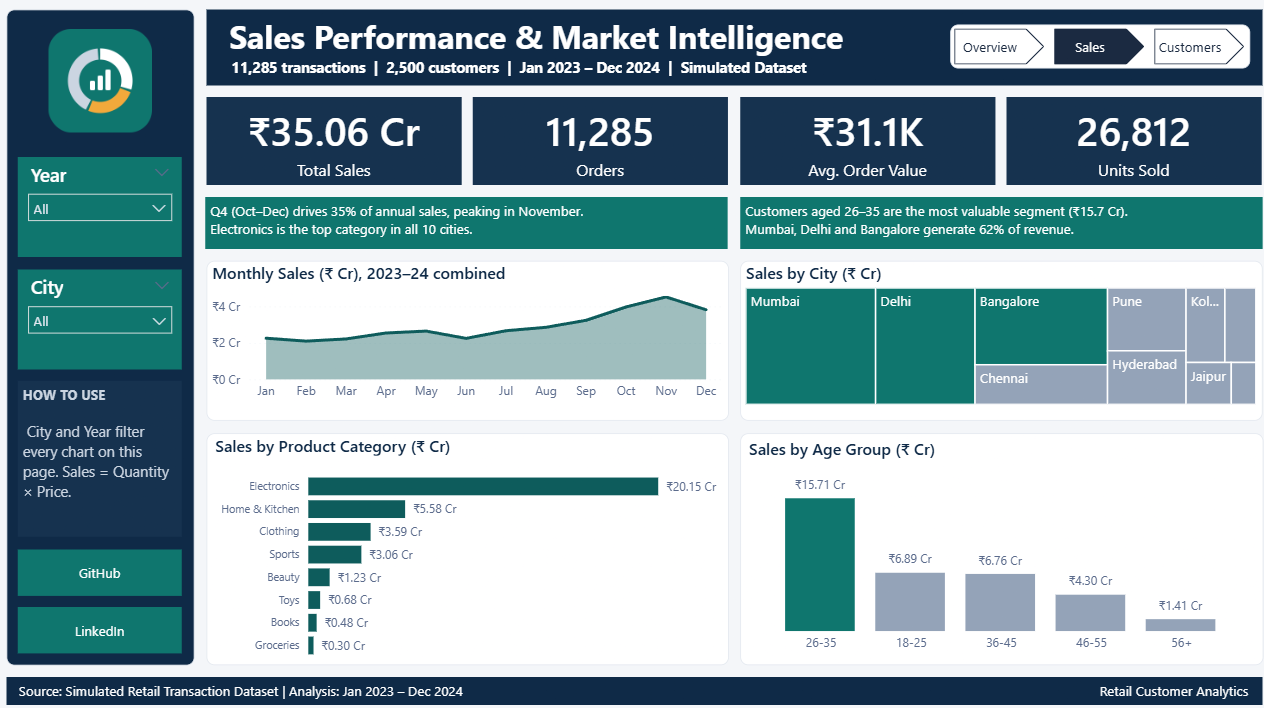

What the dashboard file says about the page in this screenshot:
{"tool":"powerbi","page":{"name":"Sales","canvas":[1280,720],"ordinal":1},"visuals":[{"type":"card","fields":{"Values":["High_Value_Customers.Sales (₹ Cr)"]},"box":[212,100,255,88],"z":0},{"type":"card","fields":{"Values":["High_Value_Customers.Orders"]},"box":[479,100,255,88],"z":1000},{"type":"card","fields":{"Values":["High_Value_Customers.Avg Order Value (₹K)"]},"box":[746,100,255,88],"z":2000},{"type":"card","fields":{"Values":["High_Value_Customers.Units Sold"]},"box":[1013,100,255,88],"z":3000},{"type":"textbox","box":[212,12,1056,76],"z":4000},{"type":"textbox","box":[12,12,188,656],"z":5000},{"type":"textbox","box":[12,680,1256,28],"z":6000},{"type":"pageNavigator","box":[956,28,300,44],"z":7000},{"type":"image","box":[46,24,120,120],"z":8000},{"type":"slicer","fields":{"Values":["Transactions.TransactionDate.Variation.Date Hierarchy.Year"]},"box":[24,160,164,100],"z":9000},{"type":"slicer","fields":{"Values":["Transactions.City"]},"box":[24,272,164.2,100],"z":10000},{"type":"textbox","box":[24,384,164,156],"z":11000},{"type":"actionButton","box":[24,552,164,46],"z":12000},{"type":"actionButton","box":[24,610,164.2,46],"z":13000},{"type":"areaChart","title":"Monthly Sales (₹ Cr), 2023–24 combined","fields":{"Category":["Transactions.Month Short"],"Y":["High_Value_Customers.Sales (₹ Cr)"]},"box":[212,264,522,160],"z":14000},{"type":"treemap","title":"Sales by City (₹ Cr)","fields":{"Group":["Transactions.City"],"Values":["High_Value_Customers.Sales (₹ Cr)"]},"box":[746,264,522,160],"z":15000},{"type":"clusteredBarChart","title":"Sales by Product Category (₹ Cr)","fields":{"Category":["Transactions.ProductCategory"],"Y":["High_Value_Customers.Sales (₹ Cr)"]},"box":[212.9,436,522,232],"z":16000},{"type":"clusteredColumnChart","title":"Sales by Age Group (₹ Cr)","fields":{"Category":["Transactions.AgeGroup"],"Y":["High_Value_Customers.Sales (₹ Cr)"]},"box":[746,436,522.9,232],"z":17000},{"type":"textbox","box":[211.4,200,522,52],"z":18000},{"type":"textbox","box":[746,200,522,52],"z":19000}]}

Visuals, with their boxes in screenshot pixels (x1, y1, x2, y2), scaled from the page's 1280x720 canvas onto the 1264x708 screenshot:
card - High_Value_Customers.Sales (₹ Cr): 209/98/461/185
card - High_Value_Customers.Orders: 473/98/725/185
card - High_Value_Customers.Avg Order Value (₹K): 737/98/988/185
card - High_Value_Customers.Units Sold: 1000/98/1252/185
textbox: 209/12/1252/87
textbox: 12/12/198/657
textbox: 12/669/1252/696
pageNavigator: 944/28/1240/71
image: 45/24/164/142
slicer - Transactions.TransactionDate.Variation.Date Hierarchy.Year: 24/157/186/256
slicer - Transactions.City: 24/267/186/366
textbox: 24/378/186/531
actionButton: 24/543/186/588
actionButton: 24/600/186/645
"Monthly Sales (₹ Cr), 2023–24 combined" areaChart: 209/260/725/417
"Sales by City (₹ Cr)" treemap: 737/260/1252/417
"Sales by Product Category (₹ Cr)" clusteredBarChart: 210/429/726/657
"Sales by Age Group (₹ Cr)" clusteredColumnChart: 737/429/1253/657
textbox: 209/197/724/248
textbox: 737/197/1252/248
